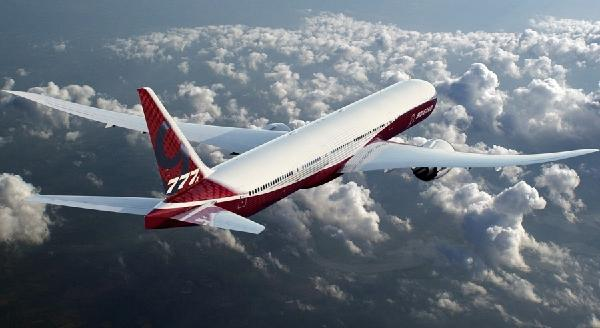airplane: (17, 79, 600, 233)
